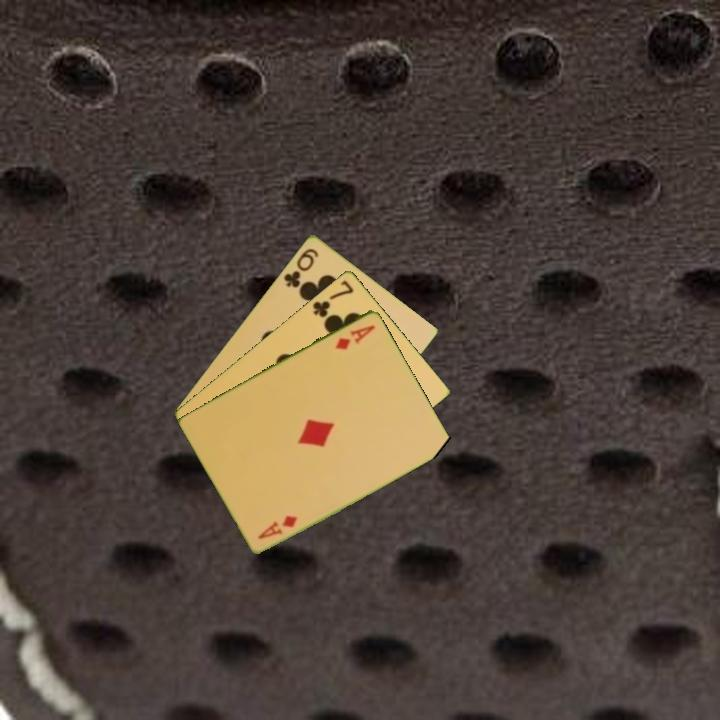6c: (280, 244, 321, 290)
7c: (309, 276, 357, 320)
Ad: (331, 321, 379, 352), (254, 511, 301, 542)
